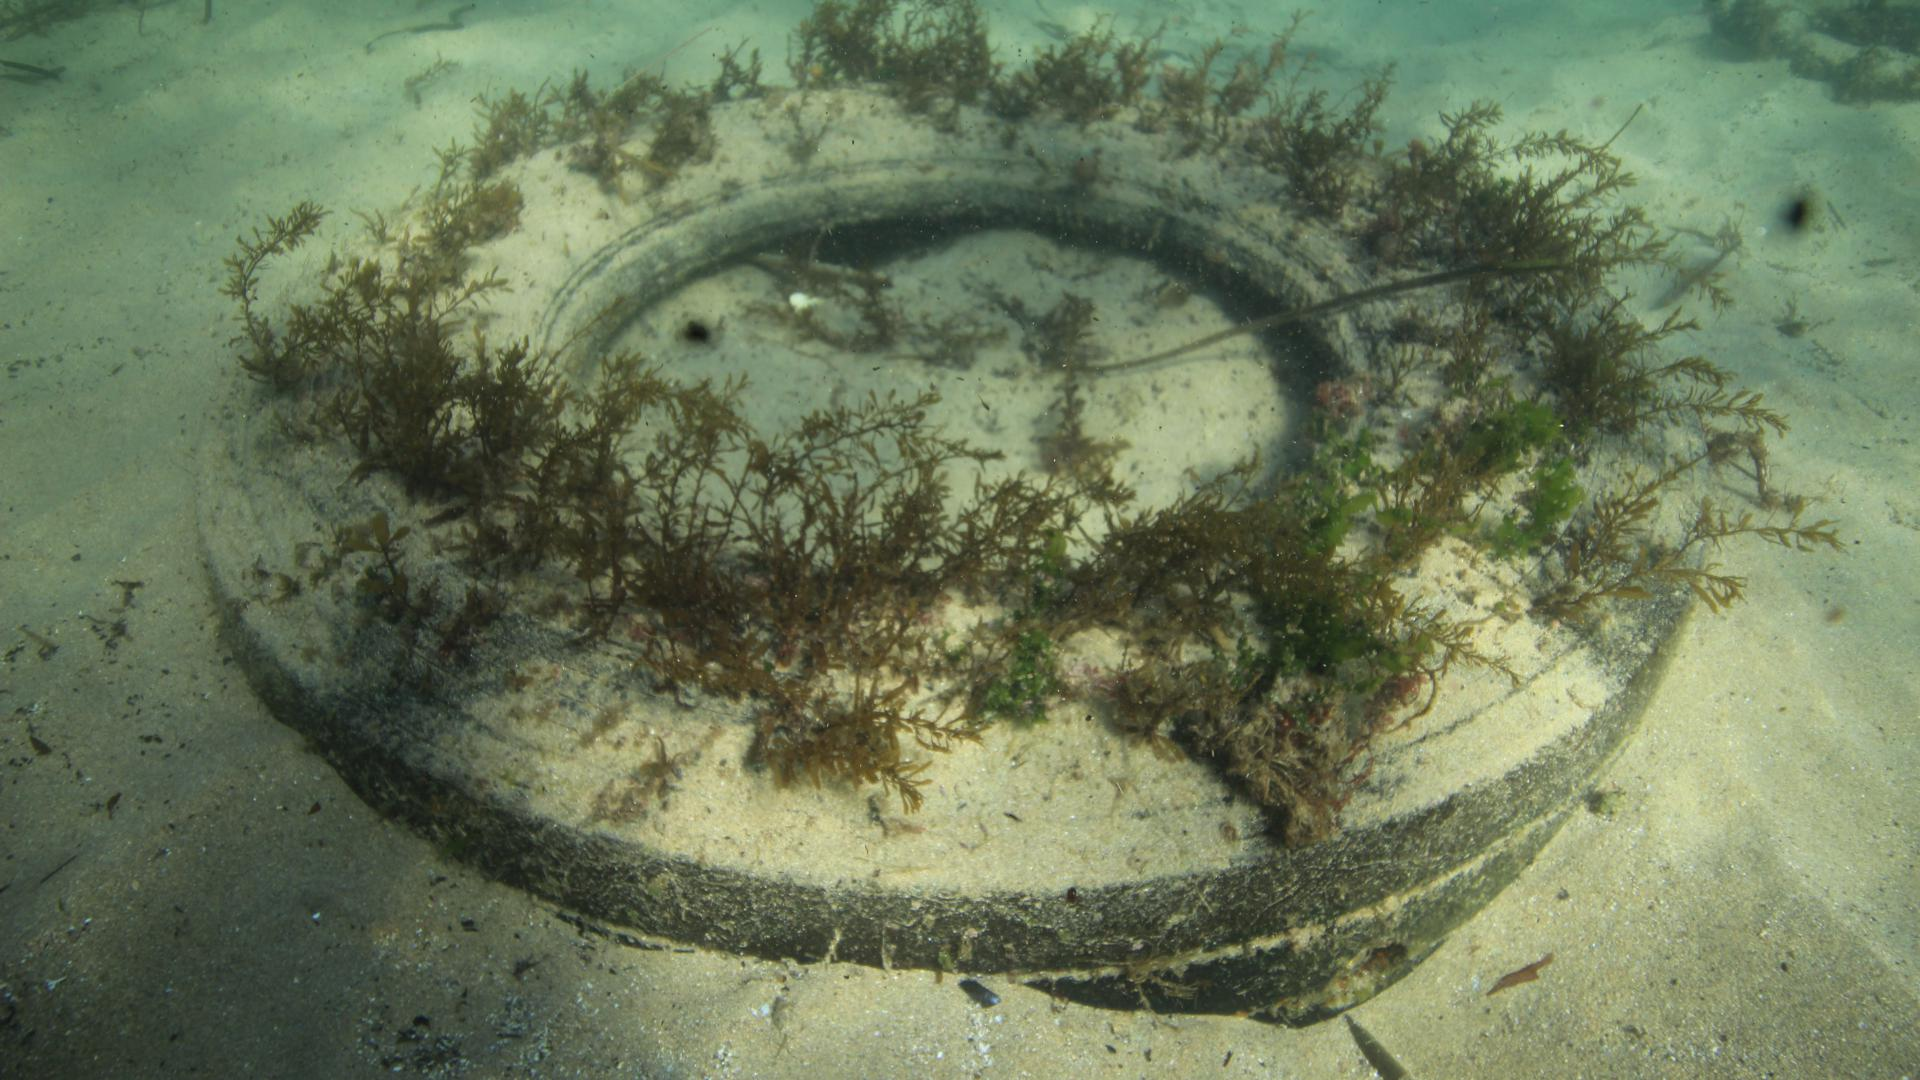tire: (189, 83, 1716, 1029)
